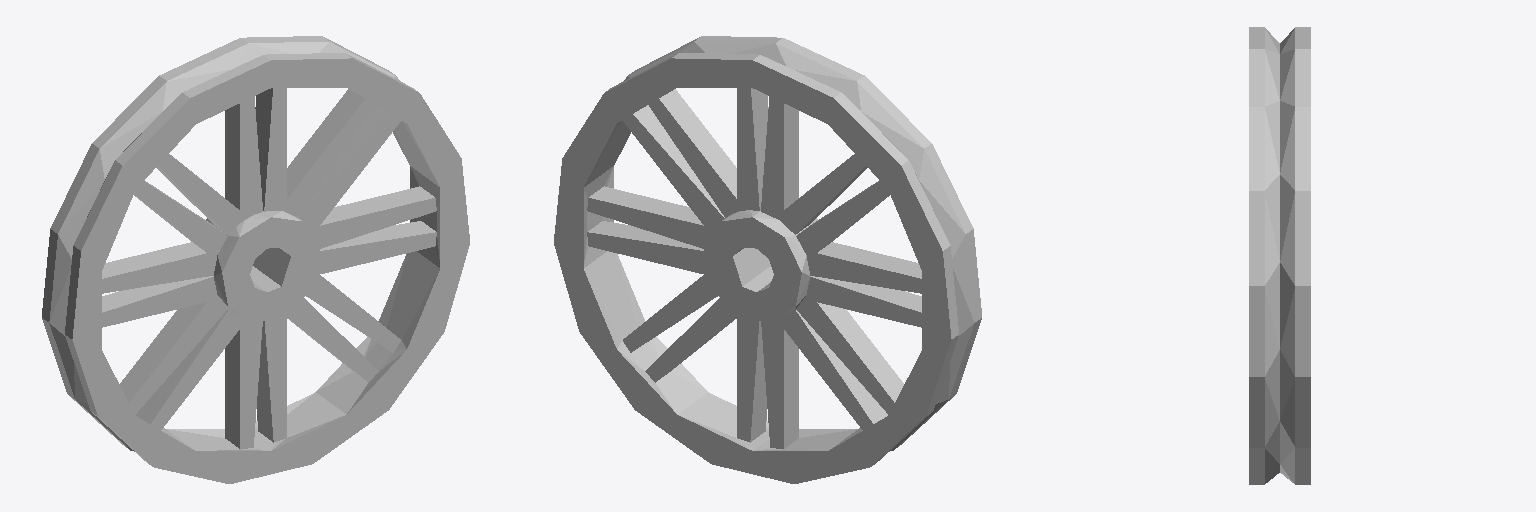
File: Ведущее колесо машинки.obj
The picture shows the model from 3 angles: view 1: azimuth 30°, elevation 25°; view 2: azimuth 150°, elevation 25°; view 3: azimuth 270°, elevation 25°; orthographic projection.
Parts seen in each view (by area): view 1: Твердое тело2; view 2: Твердое тело2; view 3: Твердое тело2.
Boxes of the visible parts, <box> form: Твердое тело2: <box>42,36,469,483</box>; Твердое тело2: <box>554,36,981,483</box>; Твердое тело2: <box>1249,27,1310,484</box>.
Size of the model in its own units: 29.84 by 29.67 by 4.